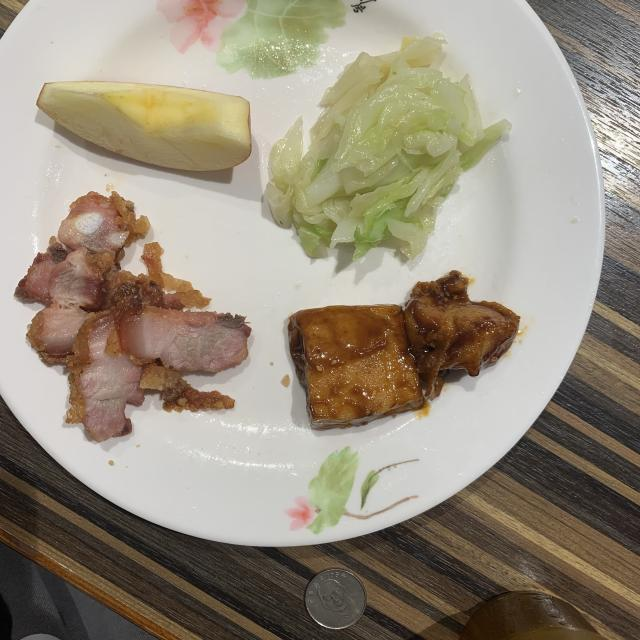apple -sliced-: (36, 81, 251, 171)
cabbage: (268, 35, 510, 259)
coin: (305, 569, 366, 629)
creamy tofu: (288, 270, 520, 430)
red grilled pork: (15, 192, 250, 441)
